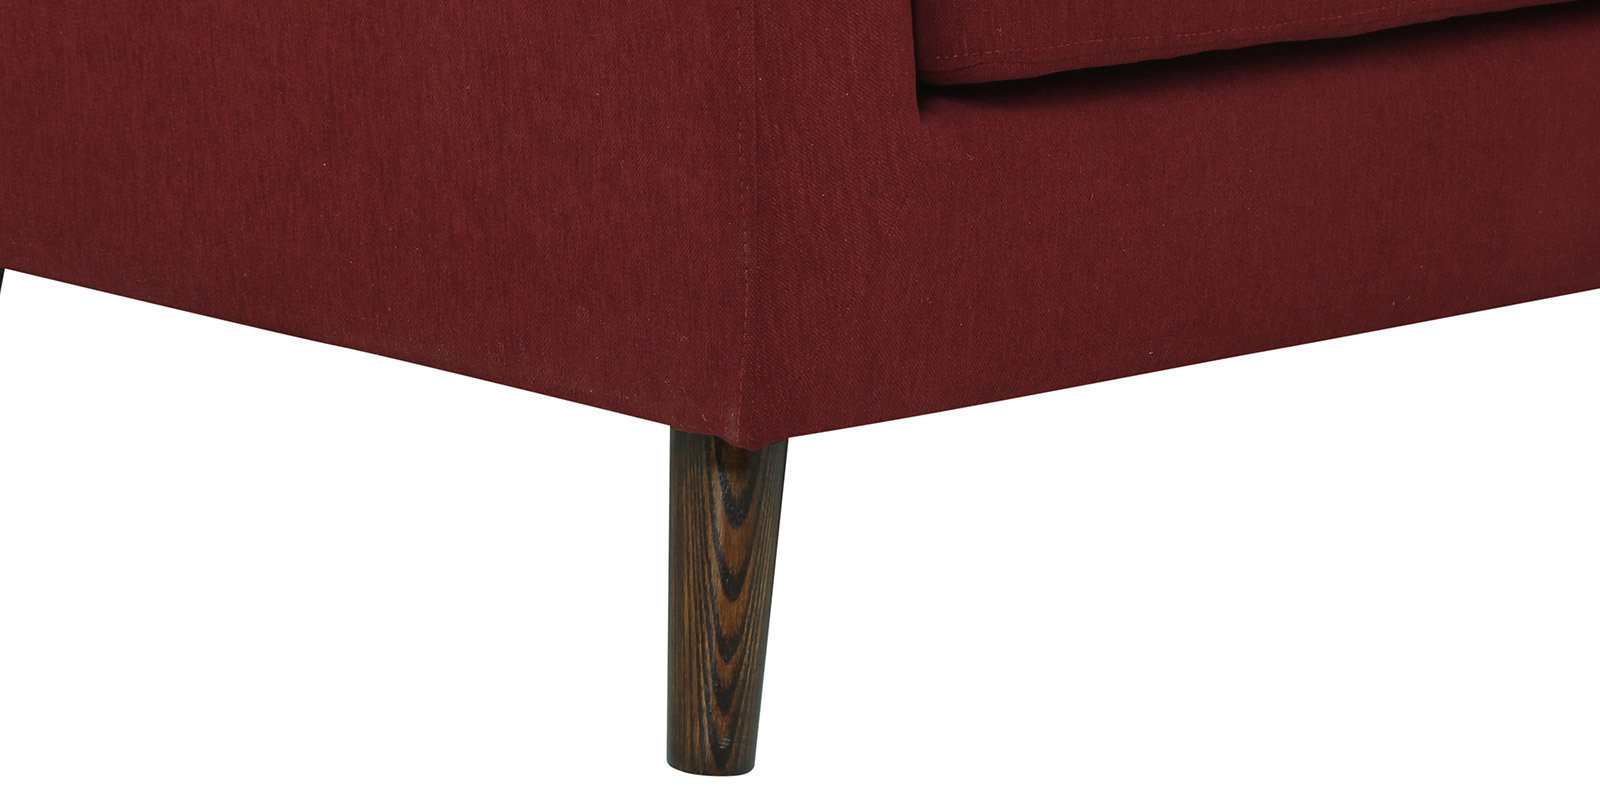Juan Three Seater Sofa in Garnet Red Colour by CasaCraft: (1, 3, 1598, 800)
